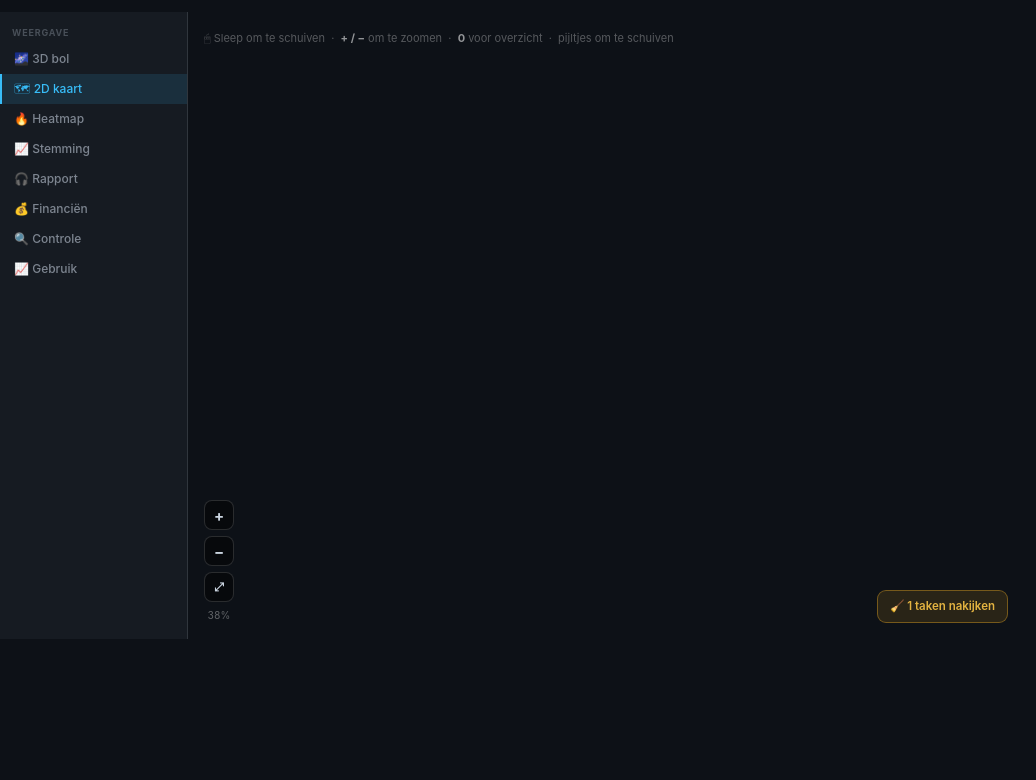
Test: GraphTab — bijwerken › vraagt niet nog eens naar een taak die je laat staan
The width and height of the screenshot is (1036, 780).
Click the button "🧹 1 taken nakijken" at (942, 606), box [877,590,1008,623]
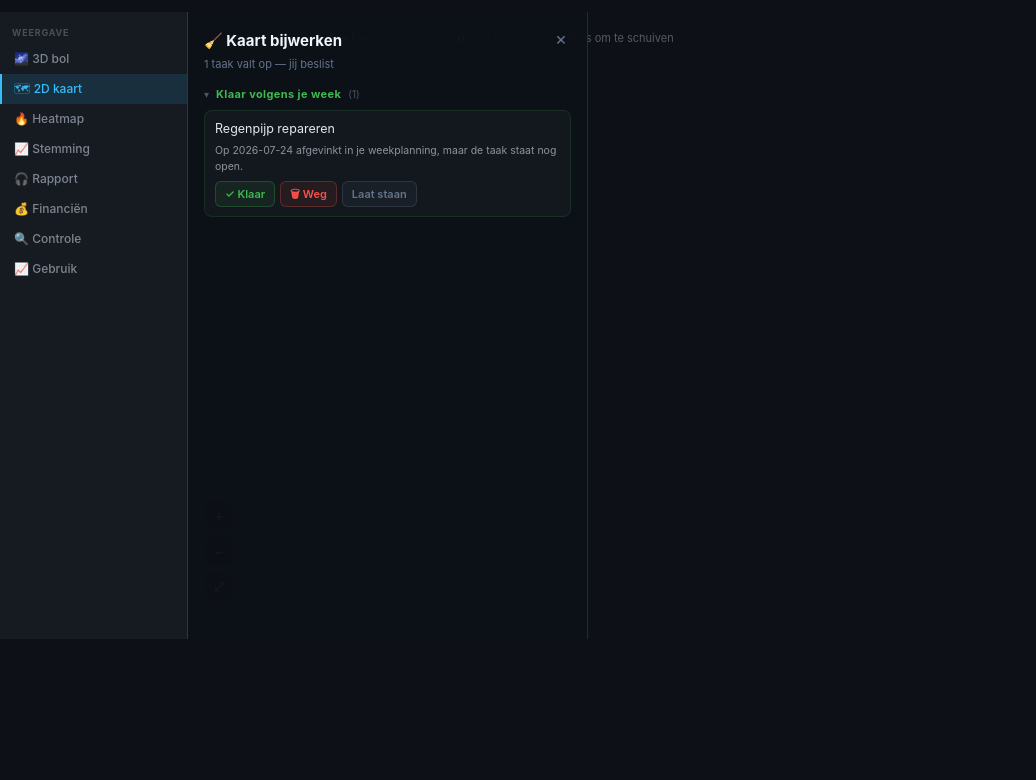
Click the button "Laat staan" at (379, 194), box [342,180,417,207]
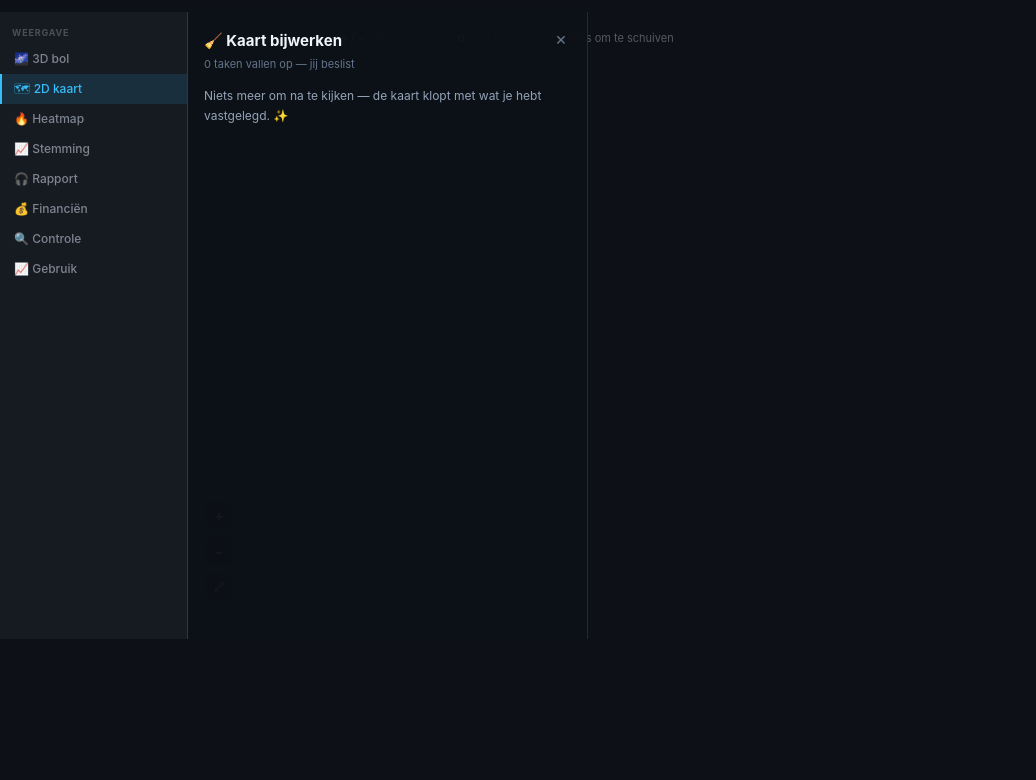
Expected: the text "Niets meer om na te kijken" is shown, [204,88,541,123]
